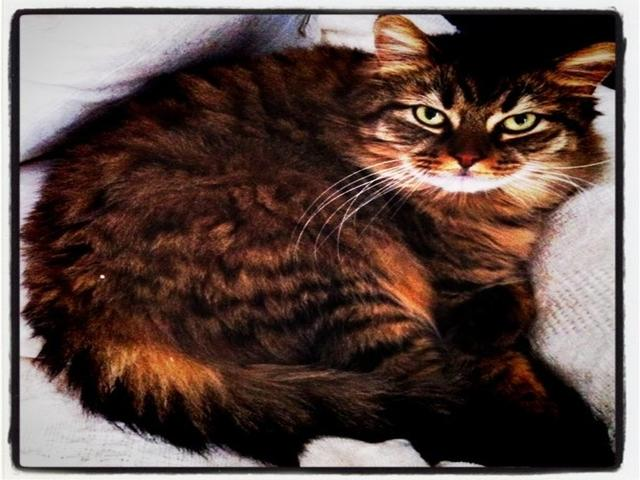cat: (217, 22, 633, 403)
